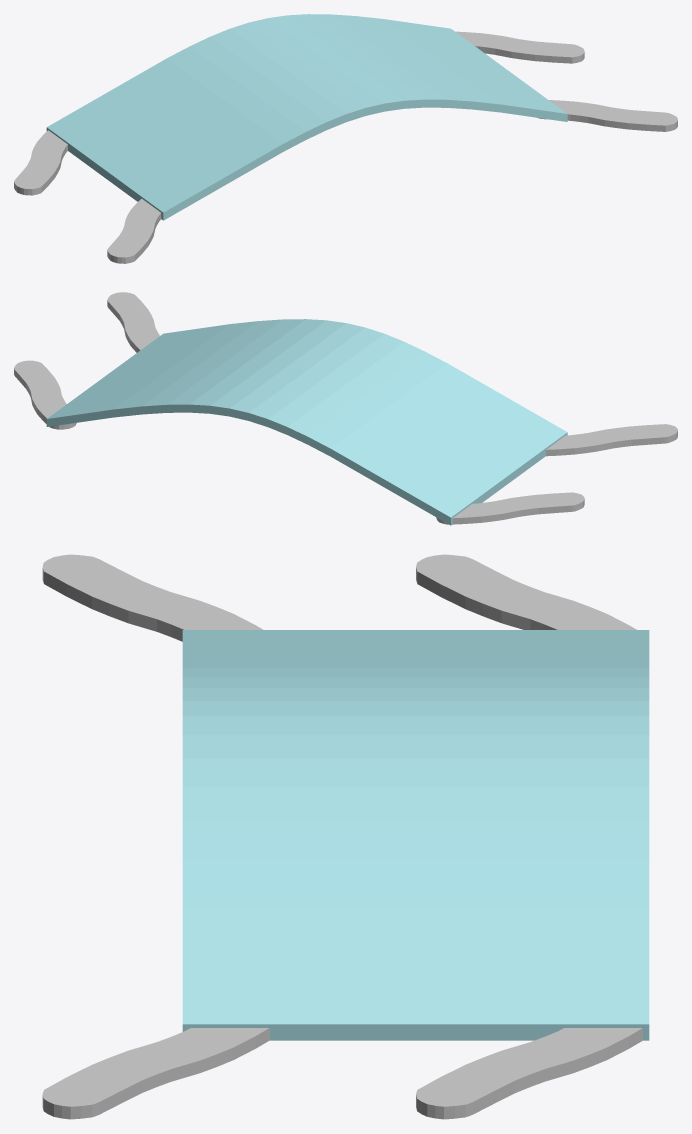
Rendered from tinker 2.obj.
3 renders of one model, top to bottom at view 1: azimuth 30°, elevation 25°; view 2: azimuth 150°, elevation 25°; view 3: azimuth 270°, elevation 25°, orthographic. The views are drawn at different scales.
Visible parts, largest first — view 1: group_0_11593967, group_0_16448250; view 2: group_0_11593967, group_0_16448250; view 3: group_0_11593967, group_0_16448250.
Part boxes in pixels (x1,y1,x2,y2): group_0_11593967: (46, 14, 567, 220); group_0_16448250: (14, 31, 677, 263); group_0_11593967: (46, 319, 567, 525); group_0_16448250: (14, 292, 677, 524); group_0_11593967: (182, 630, 649, 1040); group_0_16448250: (42, 554, 642, 1119).
Bounding box in the file's own units: 28 × 3 × 13.
